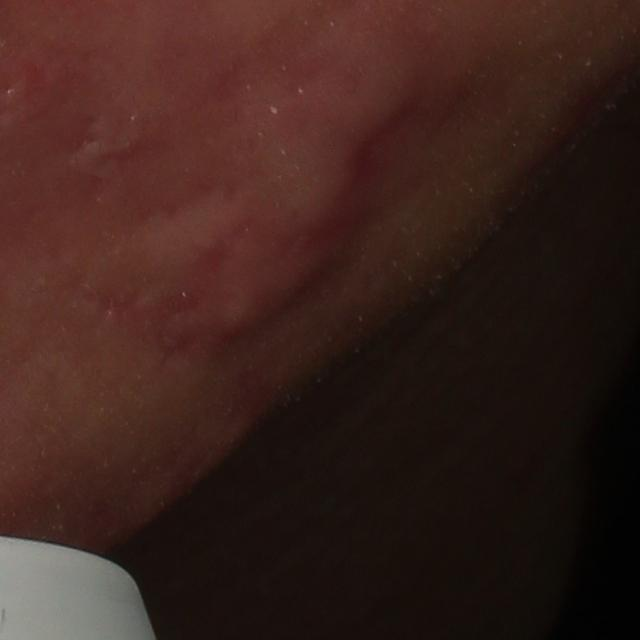hypertrophic_scar: (65, 37, 427, 362), (68, 110, 149, 183)
